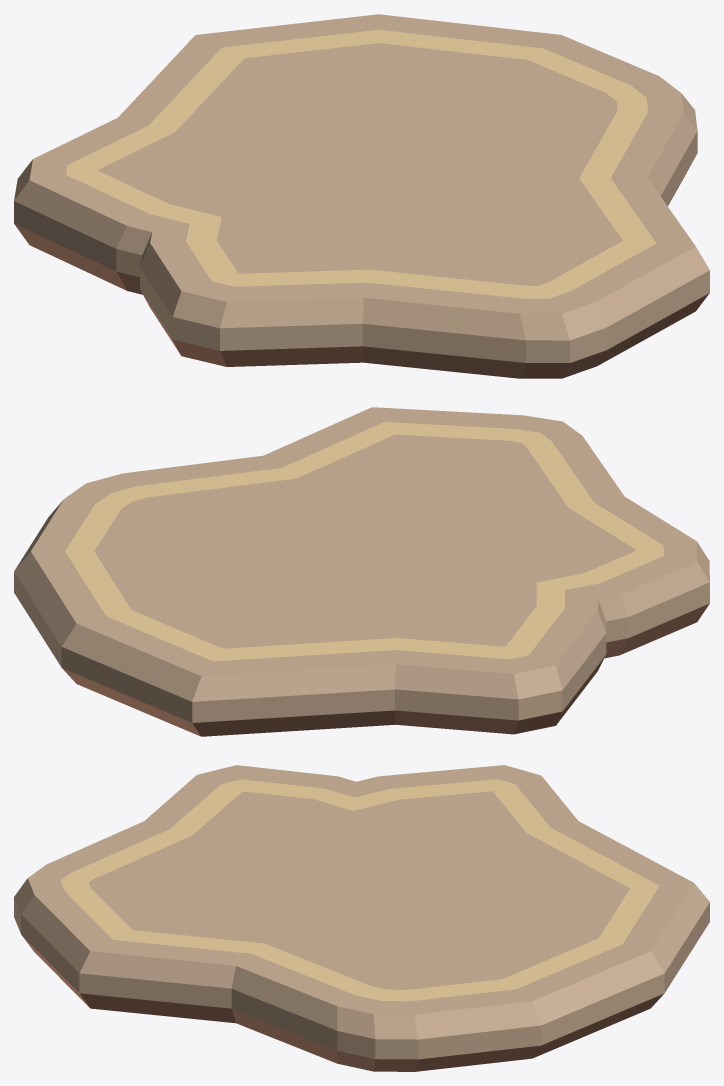
The model's file is tree_mushroom.glb.
3 views of the same model, one above another, from view 1: azimuth 30°, elevation 25°; view 2: azimuth 150°, elevation 25°; view 3: azimuth 270°, elevation 25° (orthographic). The views are drawn at different scales.
Visible parts, largest first — view 1: tree_mushroom; view 2: tree_mushroom; view 3: tree_mushroom.
Part boxes in pixels (box(x1,y1,x2,y2)): tree_mushroom: box(14, 14, 709, 378); tree_mushroom: box(14, 407, 709, 736); tree_mushroom: box(14, 765, 709, 1071).
Bounding box in the file's own units: 1.2 × 0.1228 × 1.35.
1 material, 1 textured.
